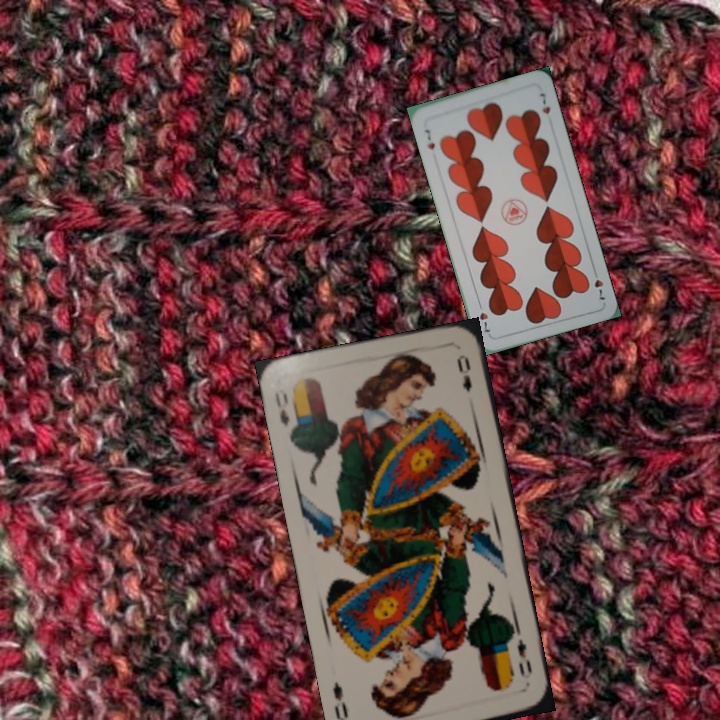EO: (513, 635, 535, 681), (271, 388, 292, 428)
H7: (589, 265, 608, 302), (421, 125, 437, 152)
